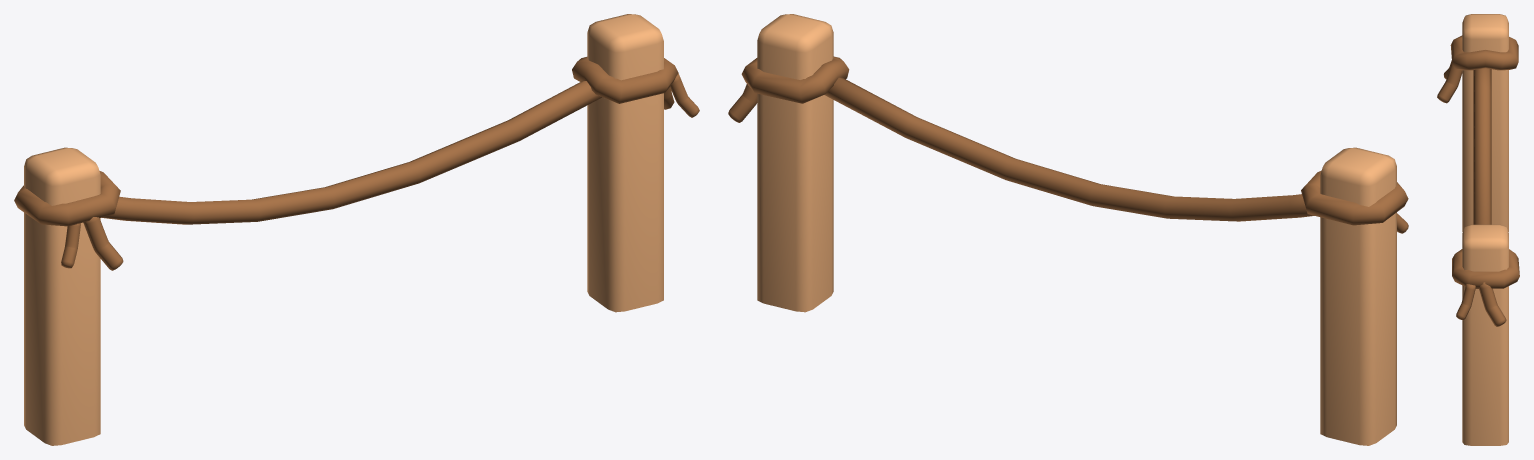
Rendered from Wooden_Fence_10.fbx.
3 renders of one model, left to right at view 1: azimuth 30°, elevation 25°; view 2: azimuth 150°, elevation 25°; view 3: azimuth 270°, elevation 25°, orthographic. The views are drawn at different scales.
Visible parts, largest first — view 1: Wooden_Fence_10; view 2: Wooden_Fence_10; view 3: Wooden_Fence_10.
Boxes of the visible parts, box(x1,y1,x2,y2) form: Wooden_Fence_10: box(14, 14, 699, 445); Wooden_Fence_10: box(728, 14, 1408, 445); Wooden_Fence_10: box(1437, 14, 1519, 445).
Size of the model in its own units: 2247 by 896 by 324.
